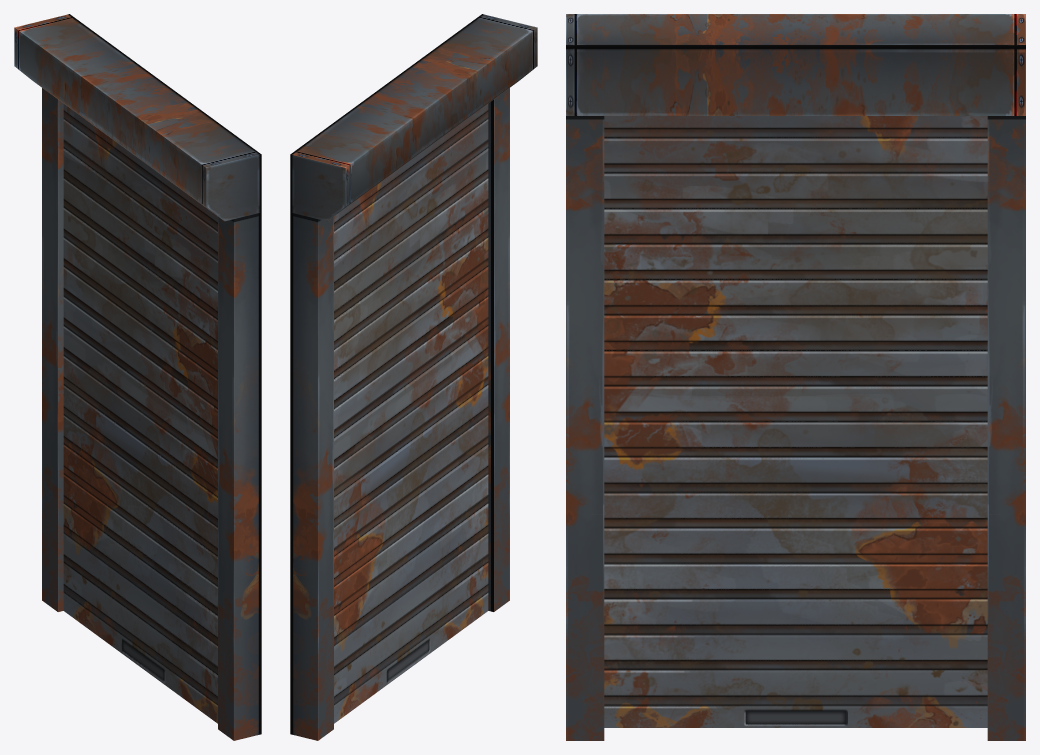
The model's file is rollerShutter01_2m.fbx.
The picture shows the model from 3 angles, left to right: view 1: azimuth 30°, elevation 25°; view 2: azimuth 150°, elevation 25°; view 3: azimuth 270°, elevation 25°; orthographic projection. The views are drawn at different scales.
Visible parts, largest first — view 1: rollerShutter01_2m; view 2: rollerShutter01_2m; view 3: rollerShutter01_2m.
Boxes of the visible parts, box(x1,y1,x2,y2) form: rollerShutter01_2m: box(14, 14, 261, 740); rollerShutter01_2m: box(290, 14, 537, 740); rollerShutter01_2m: box(566, 14, 1025, 740).
Bounding box in the file's own units: 30 × 300 × 180.
